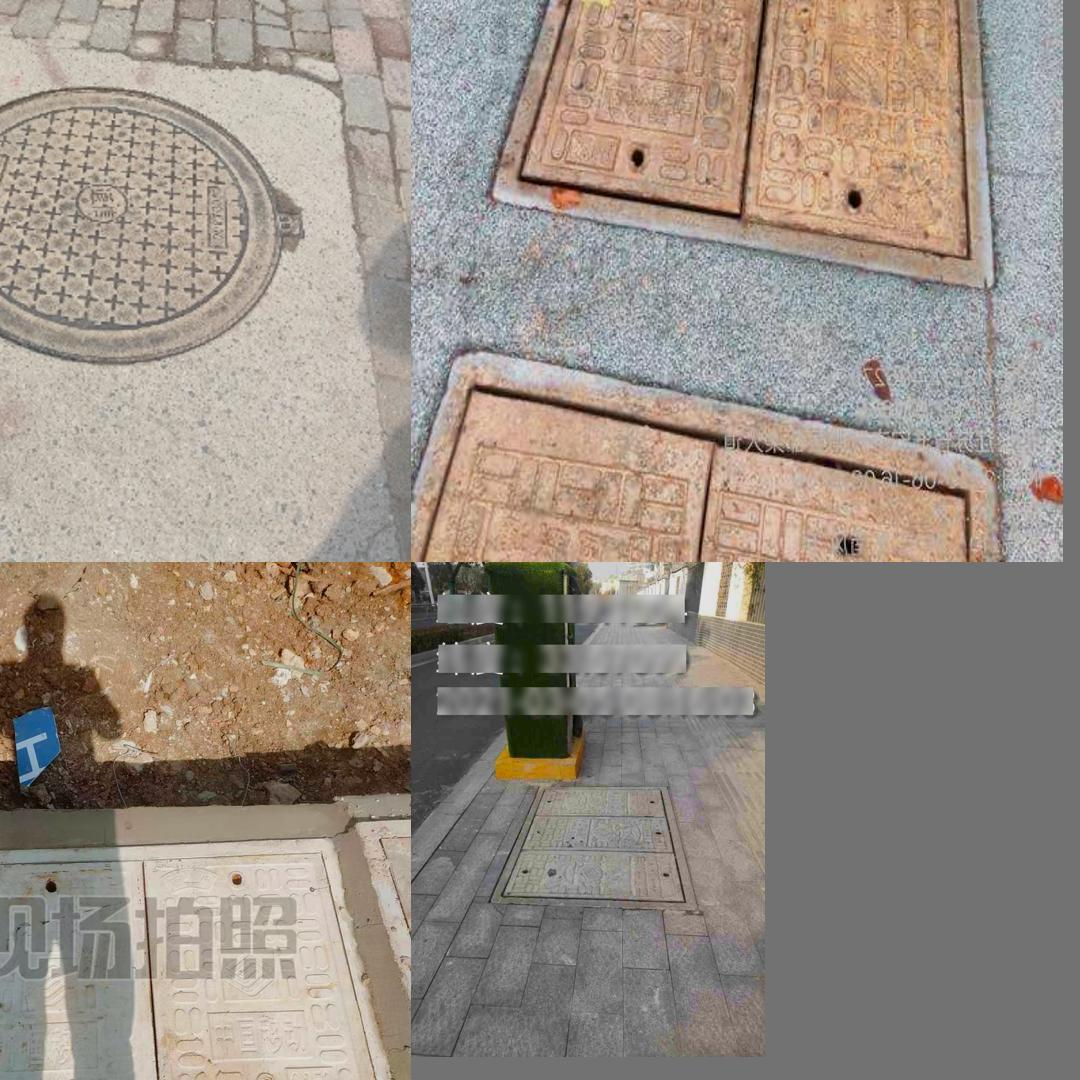good: (491, 0, 996, 286), (411, 351, 996, 562), (0, 833, 407, 1080), (0, 81, 284, 369), (490, 781, 698, 909)
